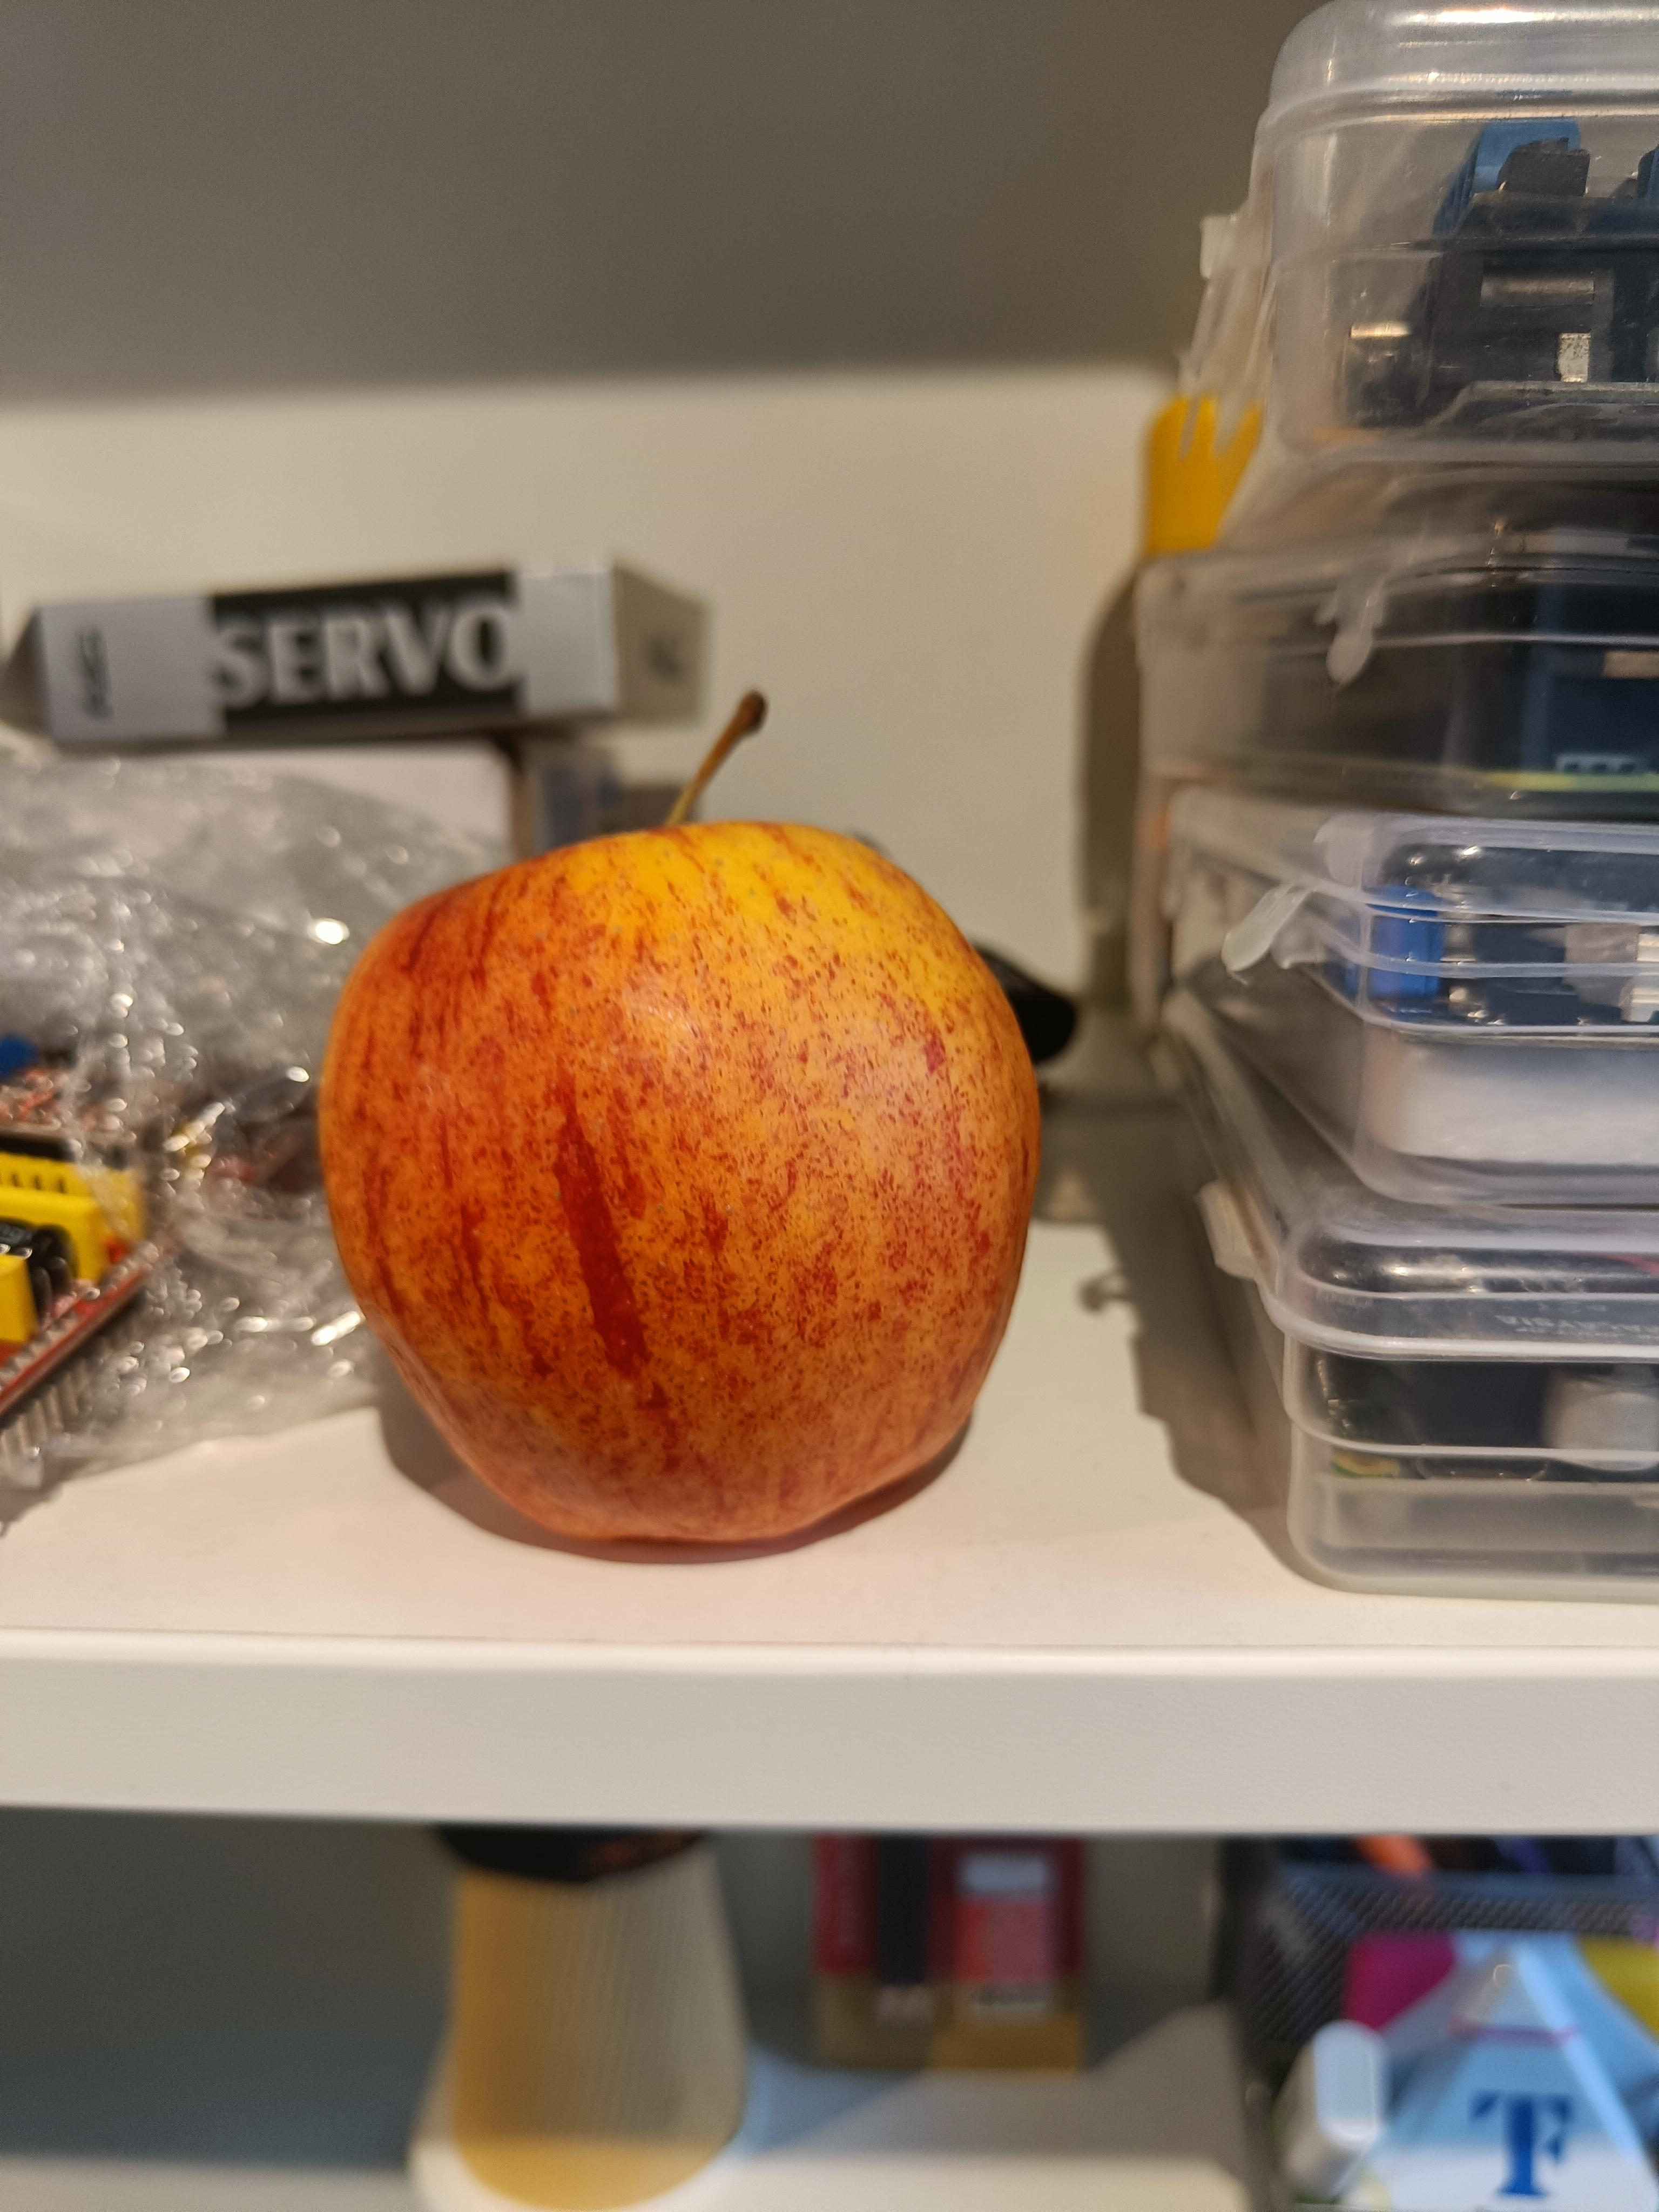Apple: (317, 667, 1056, 1581)
